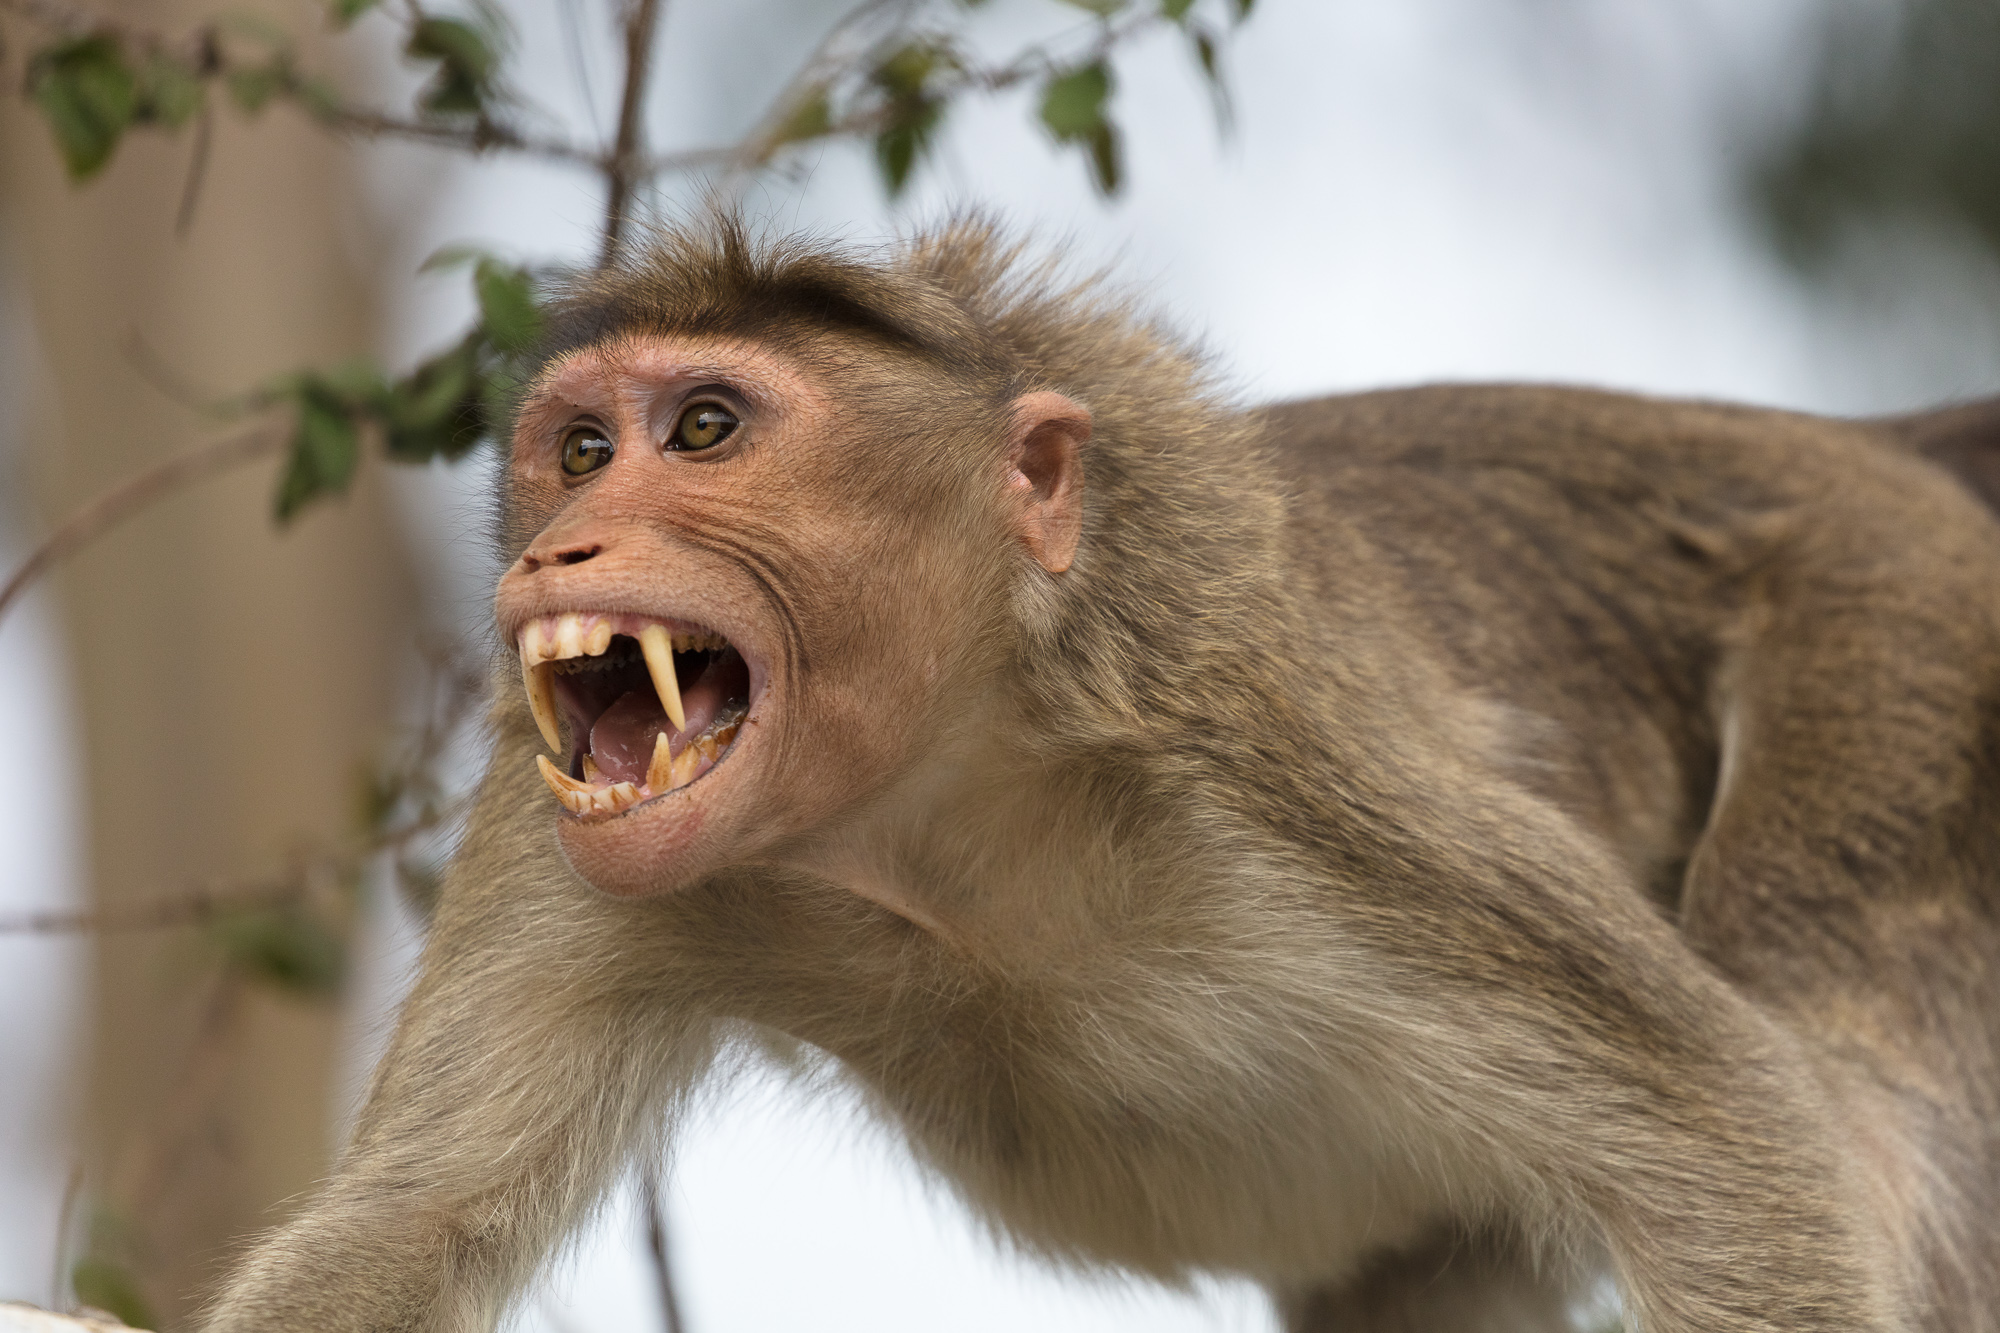monkey: (198, 225, 2000, 1333)
